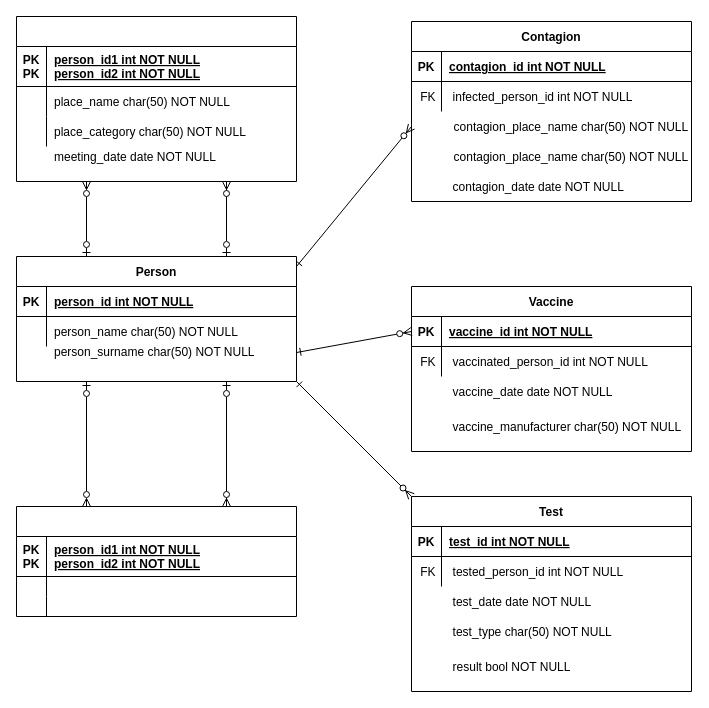
This 709x708 diagram has some shape labels left out. Each missing label, with the box of its shape:
Meets: (16, 16, 296, 182)
Relative: (16, 506, 296, 616)
